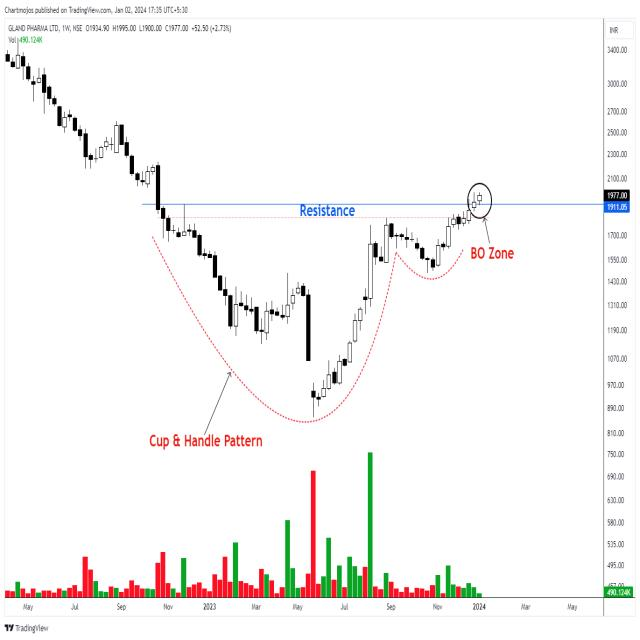Cup-and-handle: (153, 217, 473, 414)
